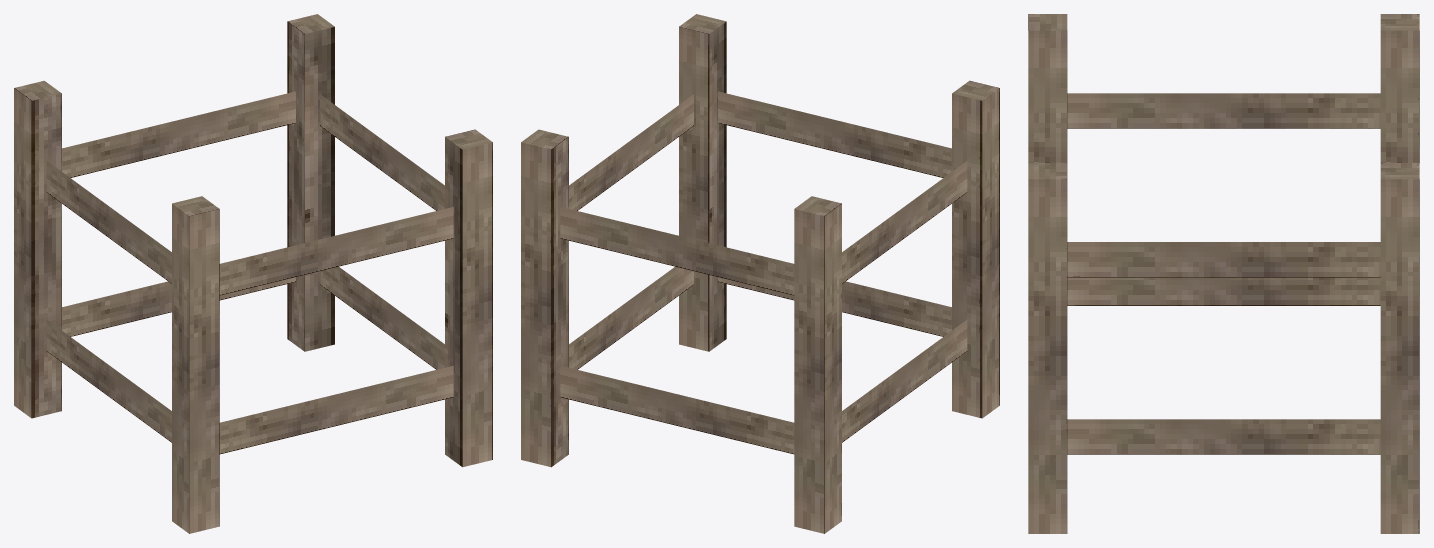
The model's file is kenney-retro-fantasy-structure.glb.
3 views of the same model, side by side, from view 1: azimuth 30°, elevation 25°; view 2: azimuth 150°, elevation 25°; view 3: azimuth 270°, elevation 25° (orthographic). The views are drawn at different scales.
Visible parts, largest first — view 1: structure; view 2: structure; view 3: structure.
Boxes of the visible parts, box(x1,y1,x2,y2) form: structure: box(14, 14, 492, 533); structure: box(521, 14, 999, 533); structure: box(1028, 14, 1419, 533).
Size of the model in its own units: 1 by 1 by 1.
Materials: 1 (1 with a texture image).
